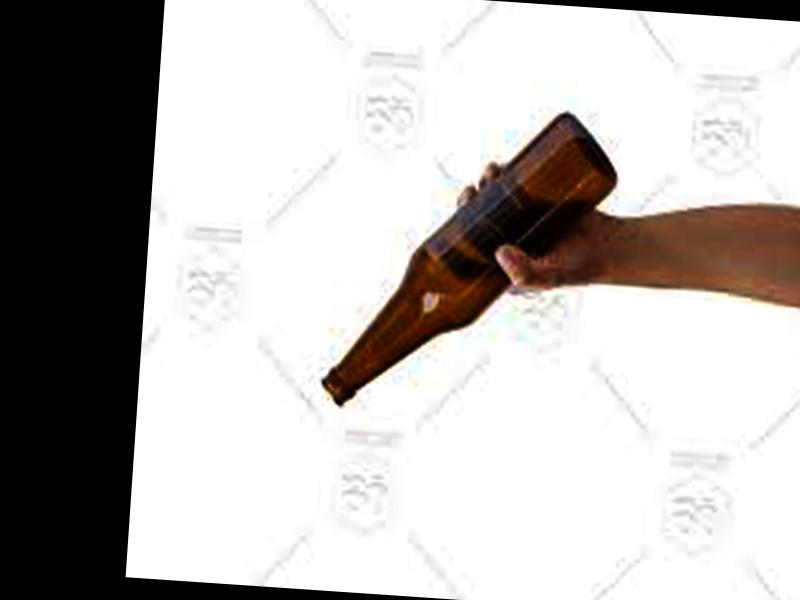Beer: (321, 95, 621, 421)
